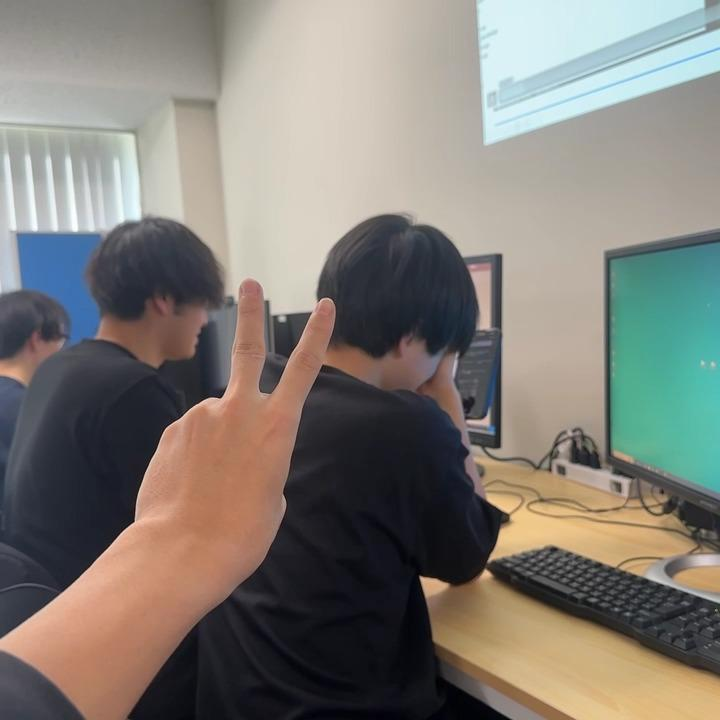without_gloves: (121, 182, 411, 614)
